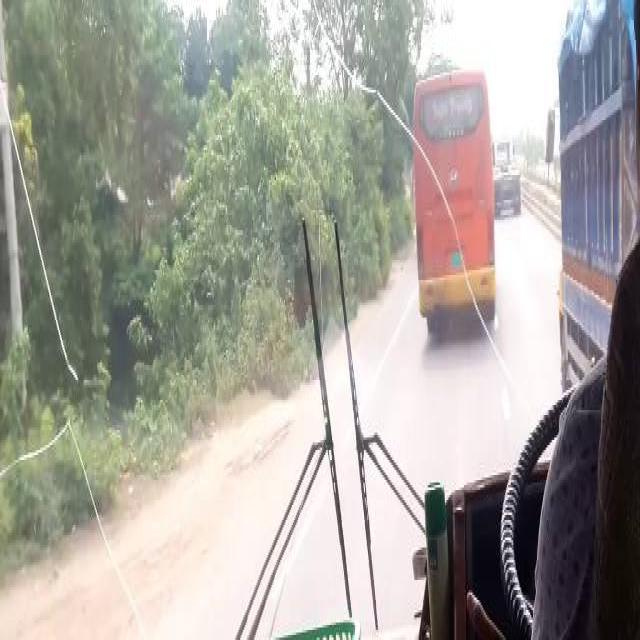vehicle: (550, 8, 638, 393), (415, 76, 495, 314), (495, 134, 522, 216)
